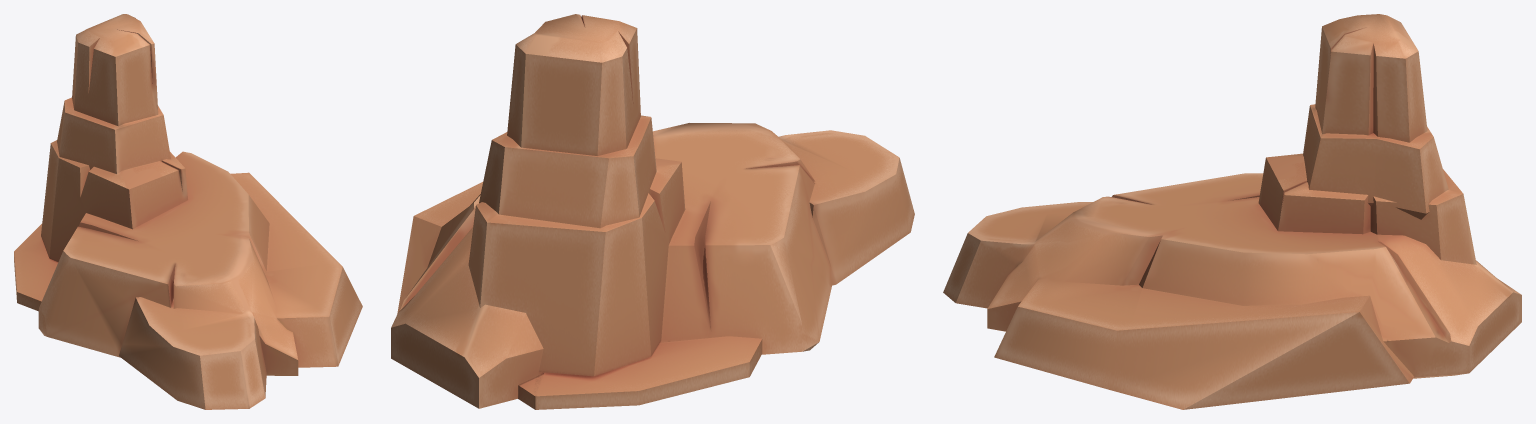
File: desert_rock_08.glb
The picture shows the model from 3 angles, left to right: view 1: azimuth 30°, elevation 25°; view 2: azimuth 150°, elevation 25°; view 3: azimuth 270°, elevation 25°; orthographic projection. The views are drawn at different scales.
Visible parts, largest first — view 1: Rock_8_Rock_8_0; view 2: Rock_8_Rock_8_0; view 3: Rock_8_Rock_8_0.
Part boxes in pixels (x1=…): Rock_8_Rock_8_0: x1=14, y1=14, x2=362, y2=409; Rock_8_Rock_8_0: x1=391, y1=14, x2=914, y2=409; Rock_8_Rock_8_0: x1=943, y1=14, x2=1521, y2=409.
Size of the model in its own units: 2.89 by 2.5 by 4.44.
Materials: 1 (1 with a texture image).
